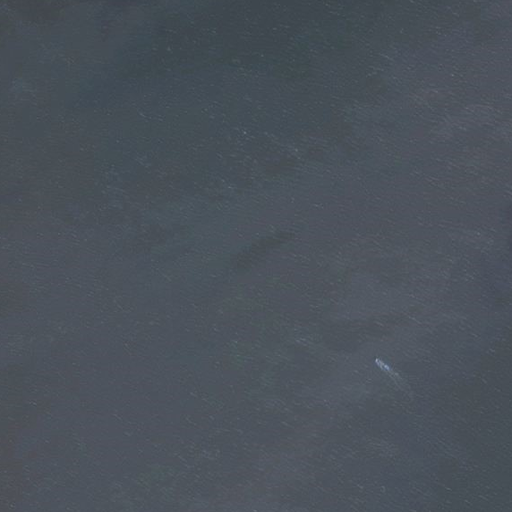ship: (372, 356, 394, 375)
